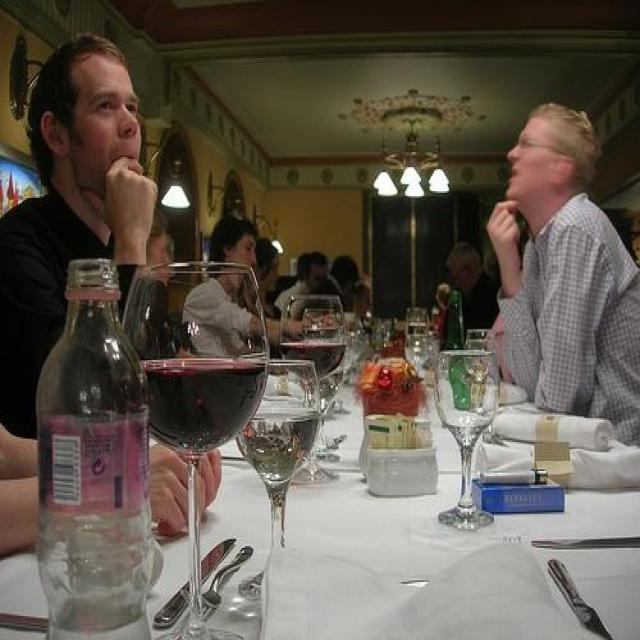No_Gloves: (141, 440, 226, 534), (101, 154, 166, 253), (482, 197, 530, 268)
